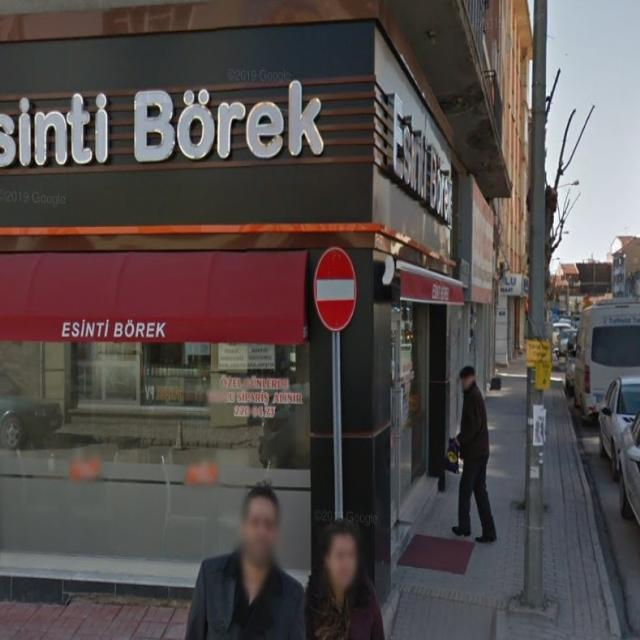girisyok: (314, 248, 356, 332)
